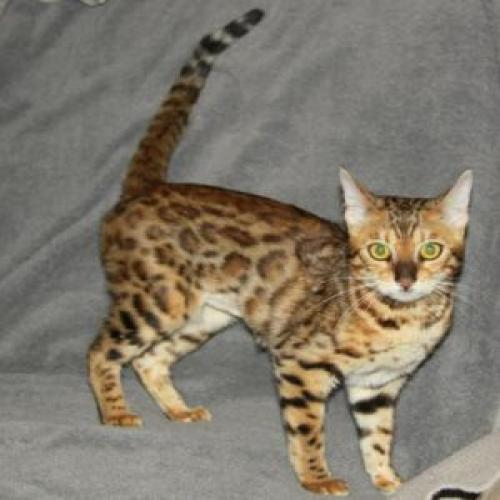bengal: (323, 163, 485, 309)
